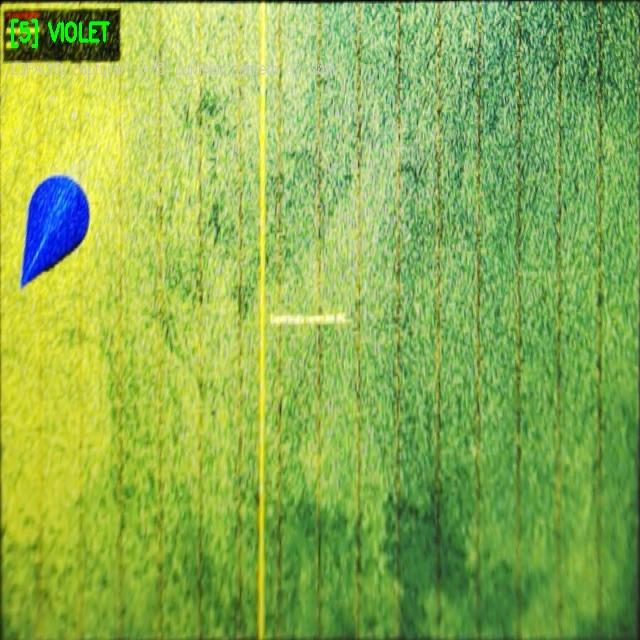violet: (21, 176, 89, 287)
